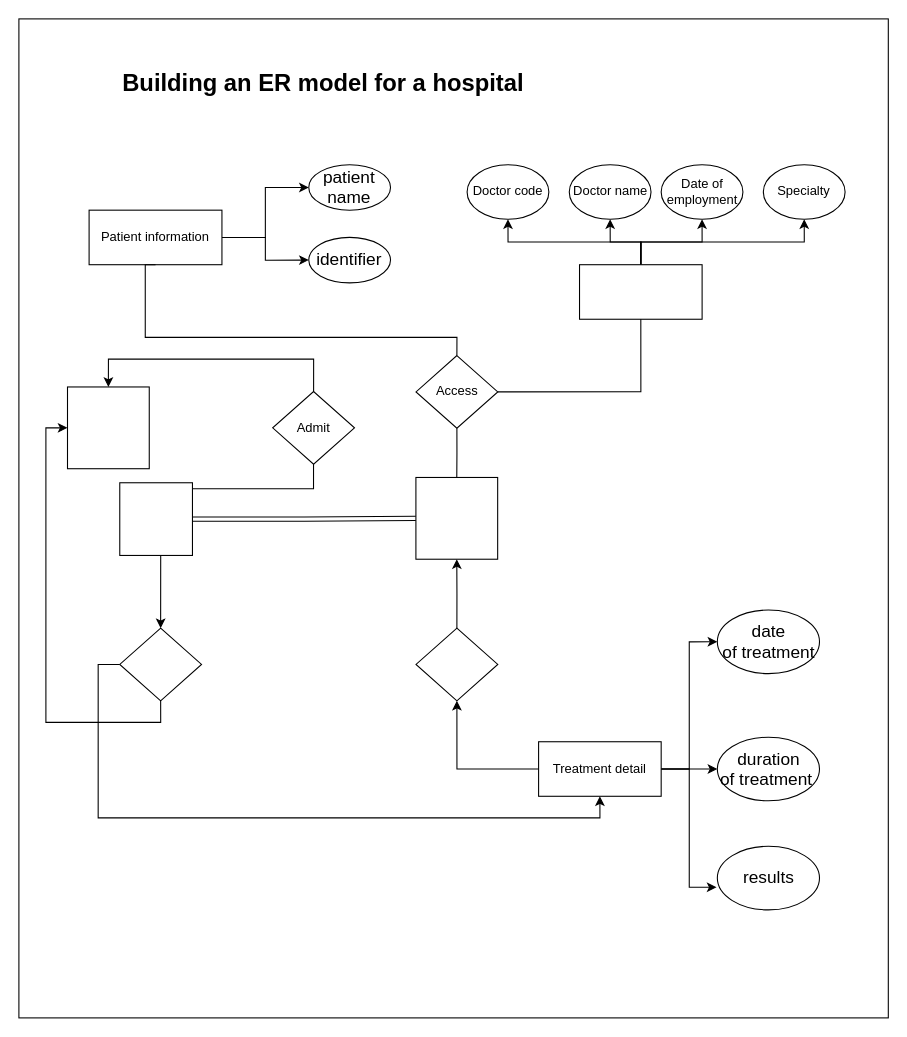
This 907x1037 diagram has some shape labels left out. The shapes that lost their labels are listed below. From the top down, each one's centre as x and y in pixels, then its label:
At point 640,291: "Doctor information".
At point 107,427: "Patient".
At point 155,518: "Doctor".
At point 456,517: "Hospitals".
At point 160,664: "Treatment".
At point 456,664: "Save".
